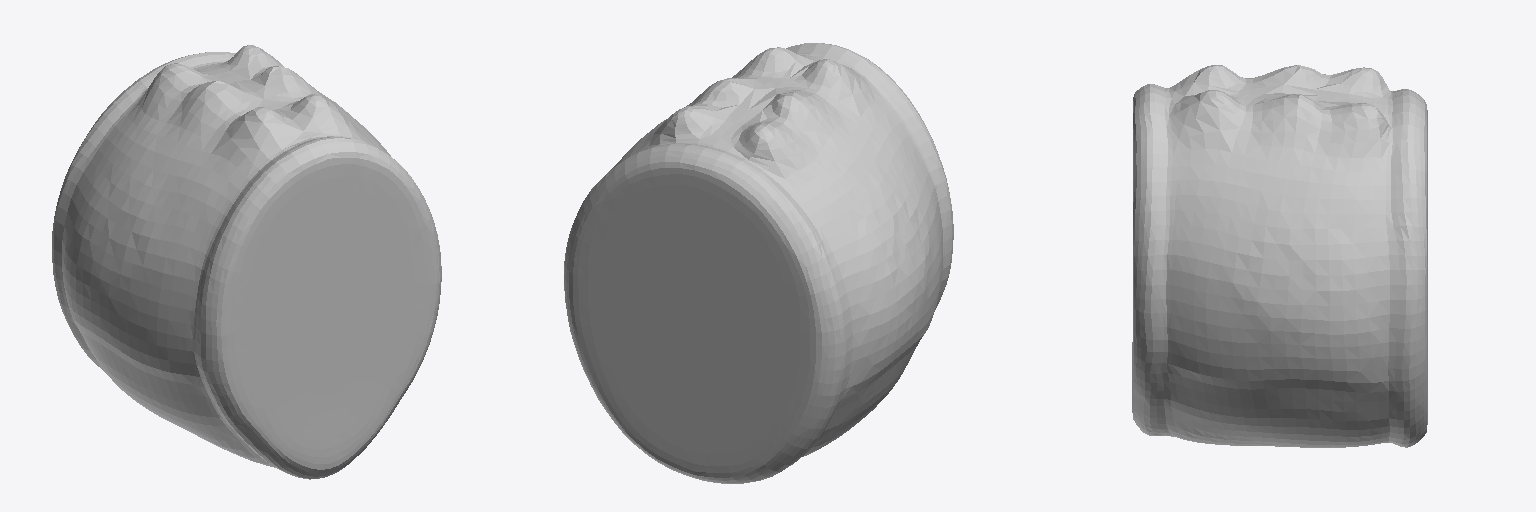
Rendered from Mid.obj.
3 renders of one model, left to right at view 1: azimuth 30°, elevation 25°; view 2: azimuth 150°, elevation 25°; view 3: azimuth 270°, elevation 25°, orthographic.
Parts seen in each view (by area): view 1: Mid_low; view 2: Mid_low; view 3: Mid_low.
Boxes of the visible parts, <box> form: Mid_low: <box>52,45,441,479</box>; Mid_low: <box>564,43,953,483</box>; Mid_low: <box>1132,65,1427,447</box>.
Bounding box in the file's own units: 5.81 × 6.33 × 4.78.